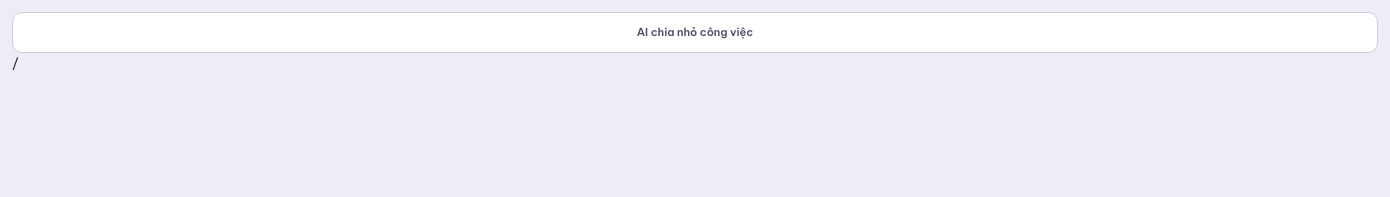
it: Reviewed AI proposals and source context › rejects malformed AI steps and retains the manual fallback
This screenshot has width=1390, height=197.
Click the button "AI chia nhỏ công việc" at (695, 32), box [12,12,1378,52]
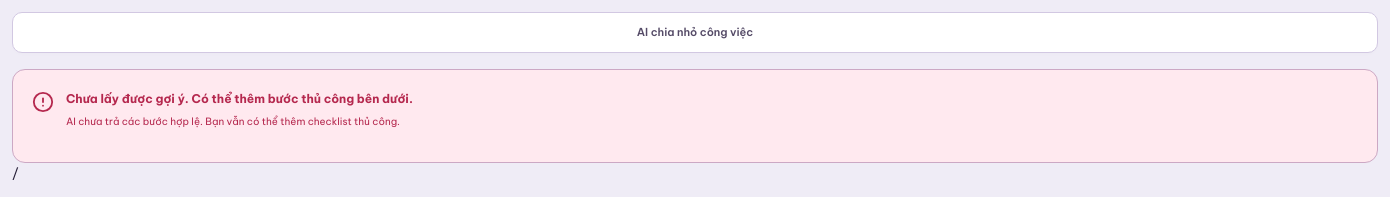
Now the message is shown, box [12,68,1378,163]
